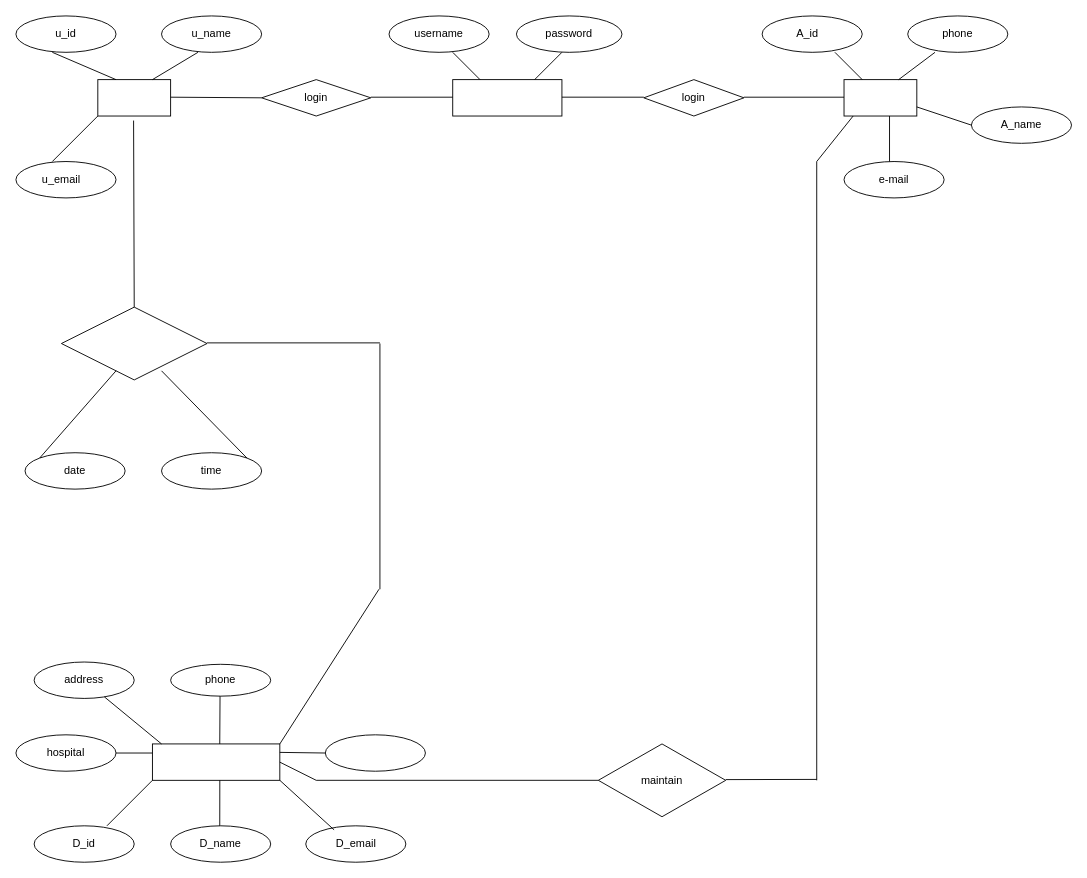
This 1087x878 diagram has some shape labels left out. Each missing label, with the centre of its shape:
"Admin" goes at (880,97).
"appointment" goes at (134,343).
"authentication" goes at (507,97).
"Doctor" goes at (216,761).
"specialization" goes at (374,752).
"user" goes at (134,97).
